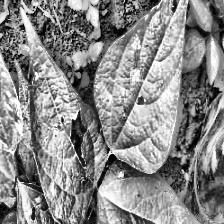ALS: (95, 0, 197, 172), (20, 11, 96, 224)
